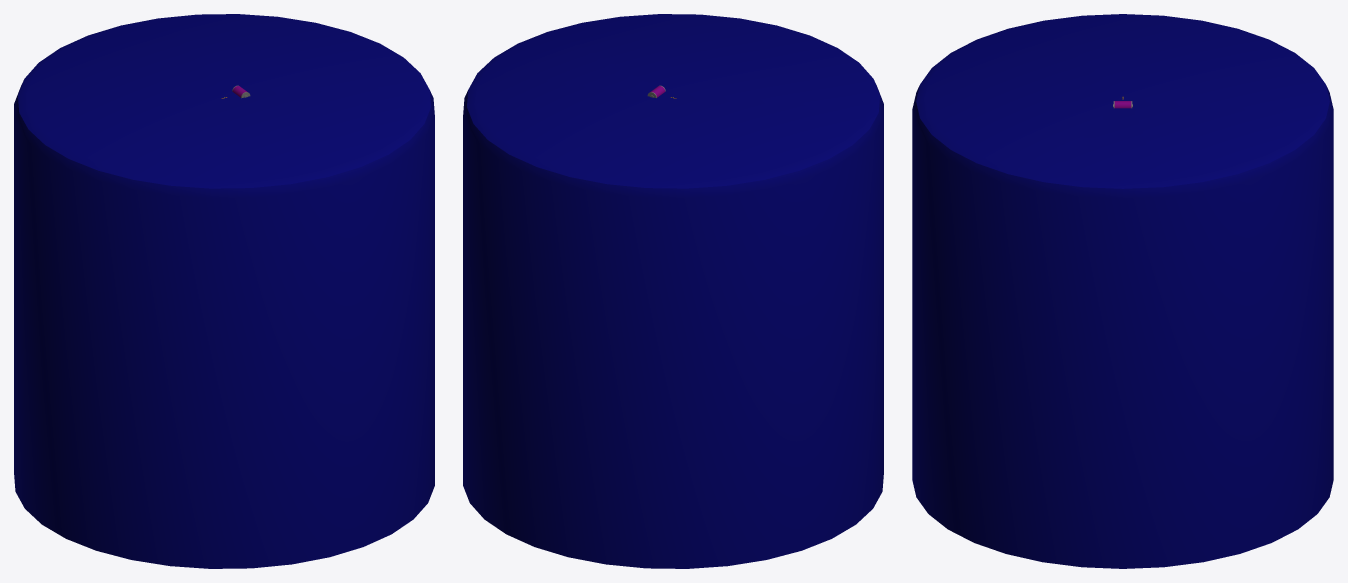
File: rama.glb
3 views of the same model, side by side, from view 1: azimuth 30°, elevation 25°; view 2: azimuth 150°, elevation 25°; view 3: azimuth 270°, elevation 25° (orthographic).
Visible parts, largest first — view 1: cylinder; view 2: cylinder; view 3: cylinder.
Boxes of the visible parts, x1,y1,x2,y2 form: cylinder: (14, 14, 434, 568); cylinder: (463, 14, 883, 568); cylinder: (912, 14, 1333, 568).
Size of what is drawn, in the model's own units: 81.38 by 82.38 by 81.38.
